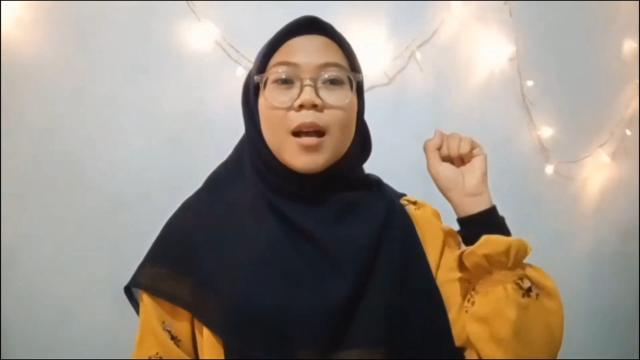A: (423, 128, 491, 200)
